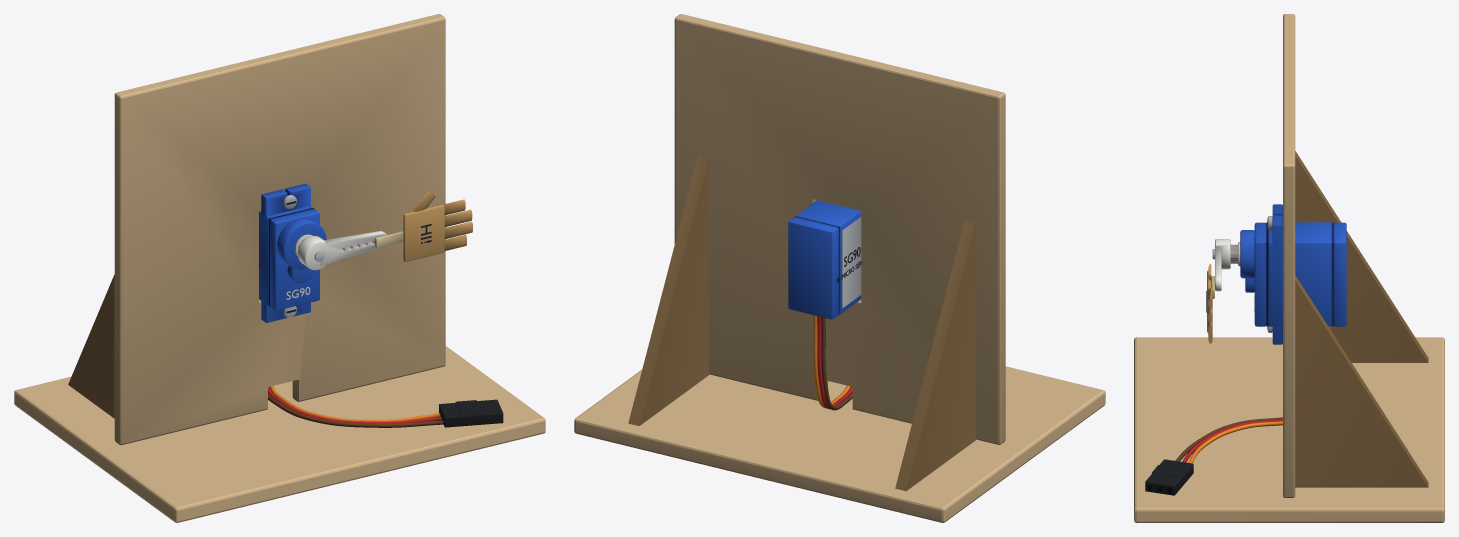
The model's file is sg90-servo.glb.
3 views of the same model, side by side, from view 1: azimuth 30°, elevation 25°; view 2: azimuth 150°, elevation 25°; view 3: azimuth 270°, elevation 25° (orthographic). The views are drawn at different scales.
Parts seen in each view (by area): view 1: Stand, Servo_Case, Hand, Horn, Connector, Wire_Ground; view 2: Stand, Servo_Case, Servo_Label; view 3: Stand, Servo_Case, Connector, Horn, Wire_Signal, Hand, Wire_Ground.
Part boxes in pixels (box(x1,y1,x2,y2)): Stand: box(14, 14, 545, 522); Servo_Case: box(259, 183, 326, 322); Hand: box(375, 190, 472, 261); Horn: box(297, 231, 386, 270); Connector: box(439, 399, 503, 427); Wire_Ground: box(268, 393, 443, 427); Stand: box(574, 14, 1105, 522); Servo_Case: box(788, 200, 861, 319); Servo_Label: box(836, 217, 861, 308); Stand: box(1134, 14, 1444, 522); Servo_Case: box(1240, 204, 1346, 344); Connector: box(1145, 459, 1193, 495); Horn: box(1212, 239, 1230, 291); Wire_Signal: box(1188, 326, 1330, 463); Hand: box(1206, 264, 1214, 343); Wire_Ground: box(1175, 417, 1282, 461).
Size of the model in its own units: 0.1 by 0.094 by 0.076.
